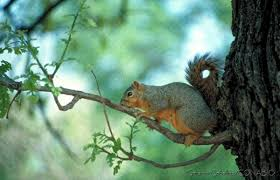Ardilla: (118, 71, 196, 149)
